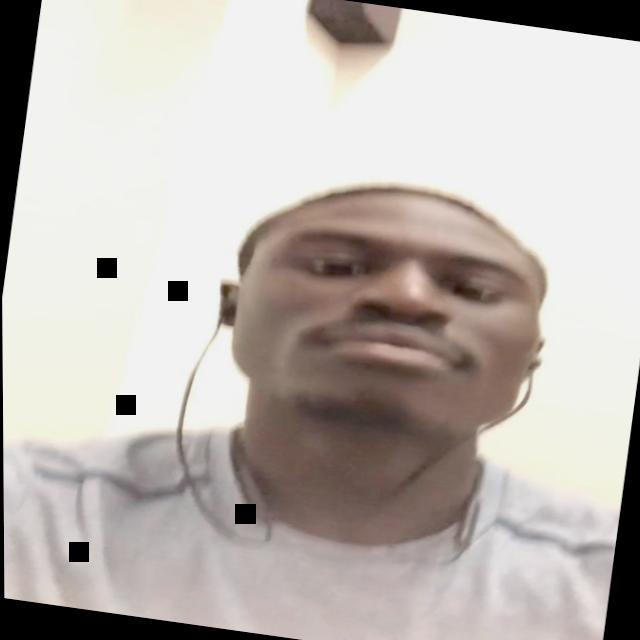NO-Mask: (214, 192, 553, 462)
